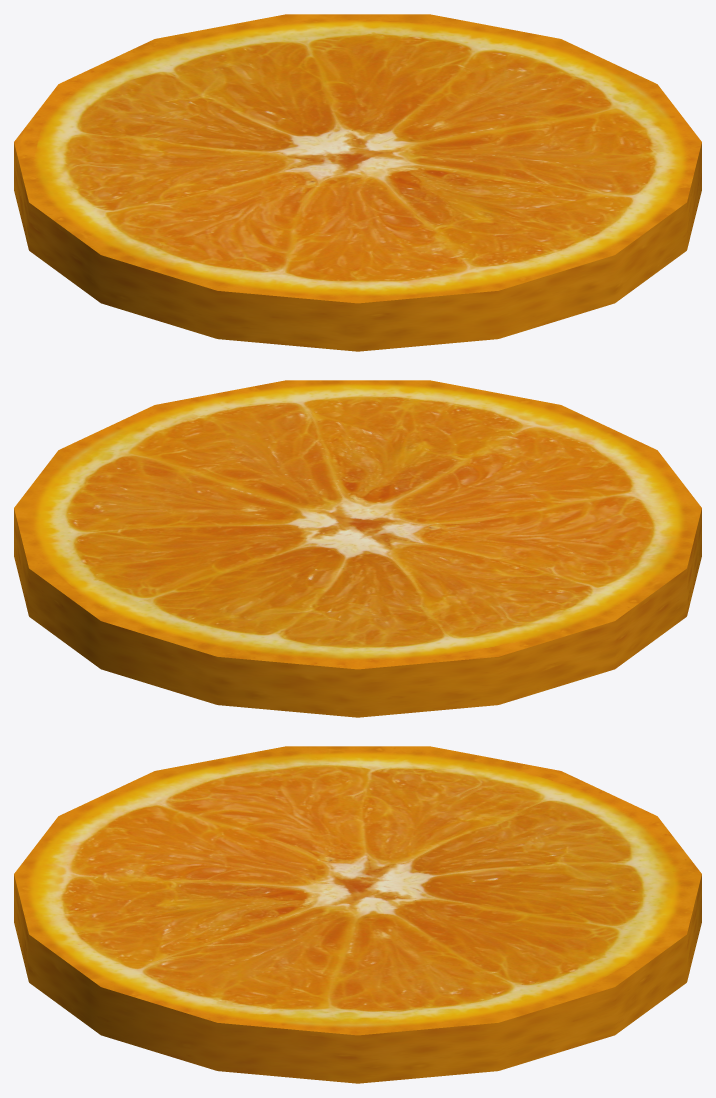
File: OrangeSlice.fbx
3 views of the same model, one above another, from view 1: azimuth 30°, elevation 25°; view 2: azimuth 150°, elevation 25°; view 3: azimuth 270°, elevation 25° (orthographic).
Parts seen in each view (by area): view 1: Default_Layer; view 2: Default_Layer; view 3: Default_Layer.
Part boxes in pixels (box(x1,y1,x2,y2)): Default_Layer: box(14, 14, 701, 351); Default_Layer: box(14, 380, 701, 717); Default_Layer: box(14, 746, 701, 1083).
Size of the model in its own units: 24.32 by 1.89 by 24.45.
